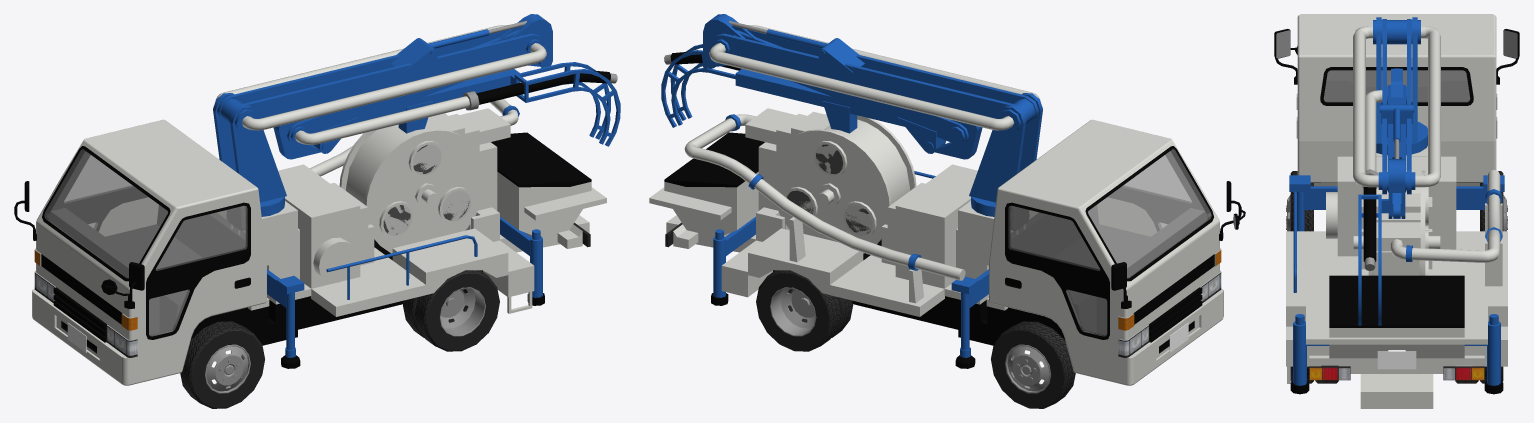
File: ポンプ車.fbx
3 views of the same model, side by side, from view 1: azimuth 30°, elevation 25°; view 2: azimuth 150°, elevation 25°; view 3: azimuth 270°, elevation 25° (orthographic). The views are drawn at different scales.
Visible parts, largest first — view 1: カタログ部品; view 2: カタログ部品; view 3: カタログ部品.
Boxes of the visible parts, left/top/right/bottom form: カタログ部品: left=14, top=14, right=620, bottom=408; カタログ部品: left=649, top=14, right=1245, bottom=408; カタログ部品: left=1274, top=14, right=1519, bottom=408.
Bounding box in the file's own units: 5610 × 2088 × 2640.
Materials: 16 (6 with a texture image).
